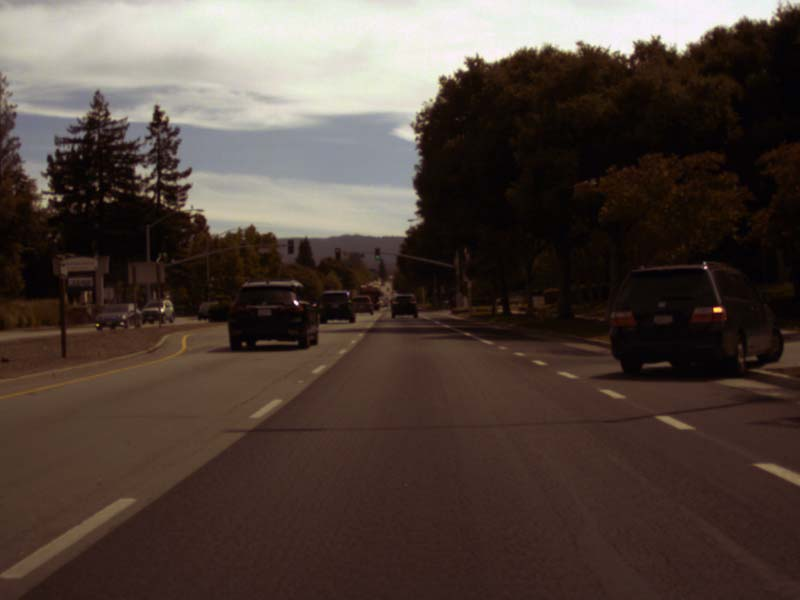Green: (374, 247, 380, 260)
Red: (335, 248, 340, 260)
